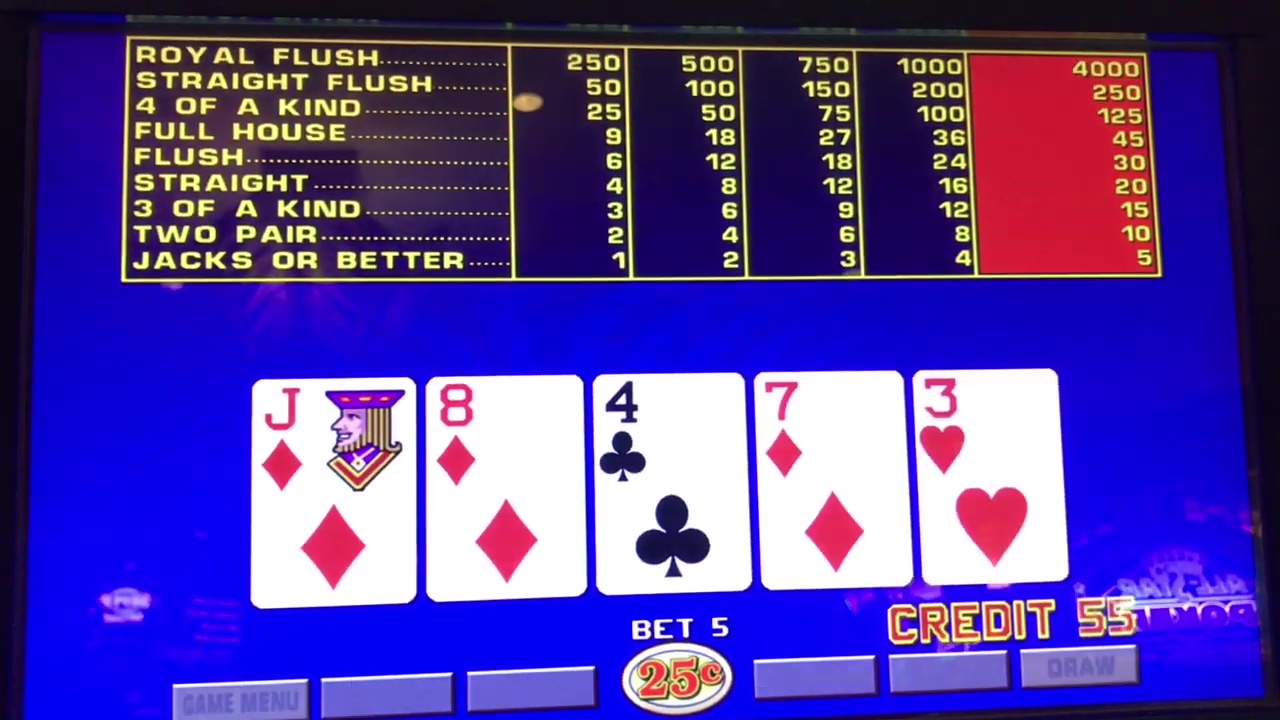C4: (599, 372, 742, 591)
D7: (766, 373, 901, 589)
D8: (433, 378, 575, 597)
DJ: (256, 380, 409, 601)
H3: (916, 371, 1058, 584)
